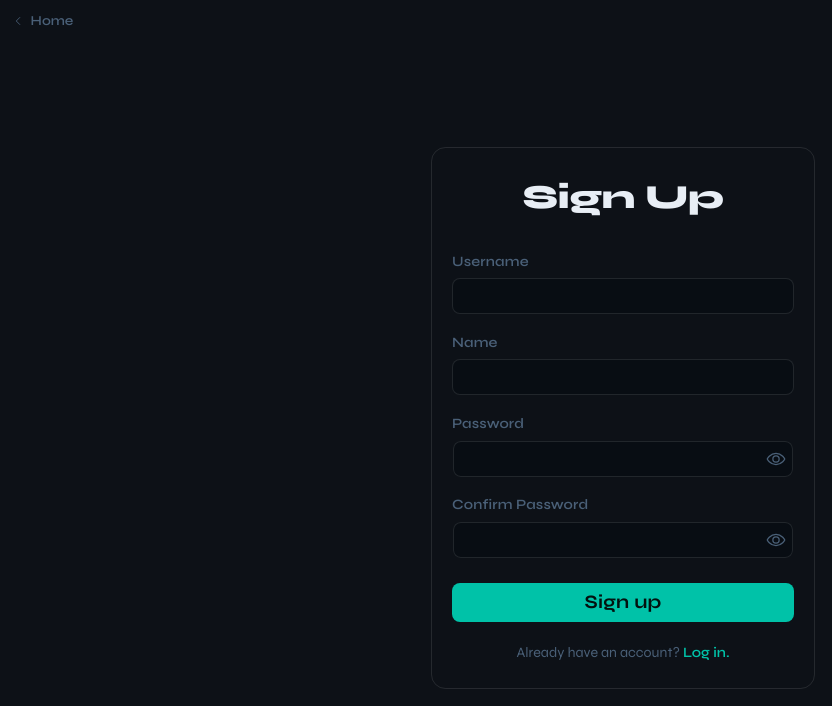
Scenario: Test suite for the signup form › Can signup
Expected: the form is shown, [431,147,815,689]
Type "test" into the field labelled "Username". click: (623, 296)
box: [452,278,794,314]
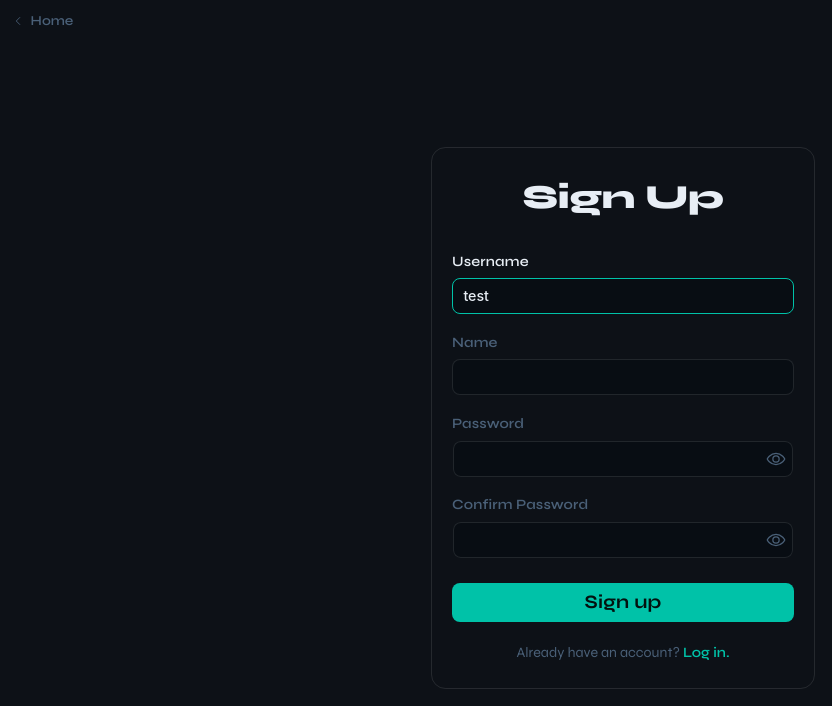
Type "Test" into the field labelled "Name". click: (623, 377)
box: [452,359,794,395]
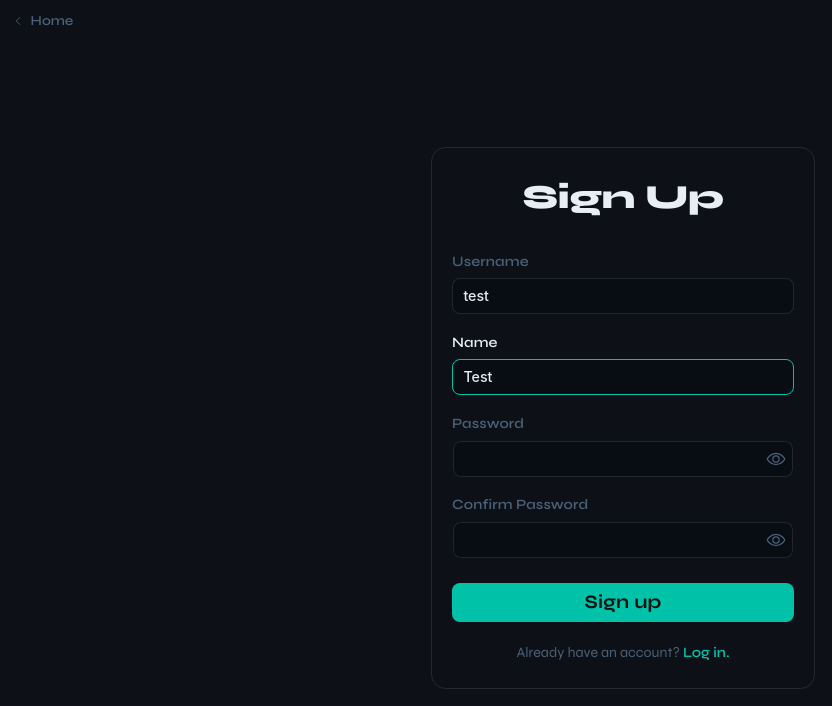
Type "qw12qw34" into the password field labelled "Password". click: (623, 459)
box: [453,441,793,477]
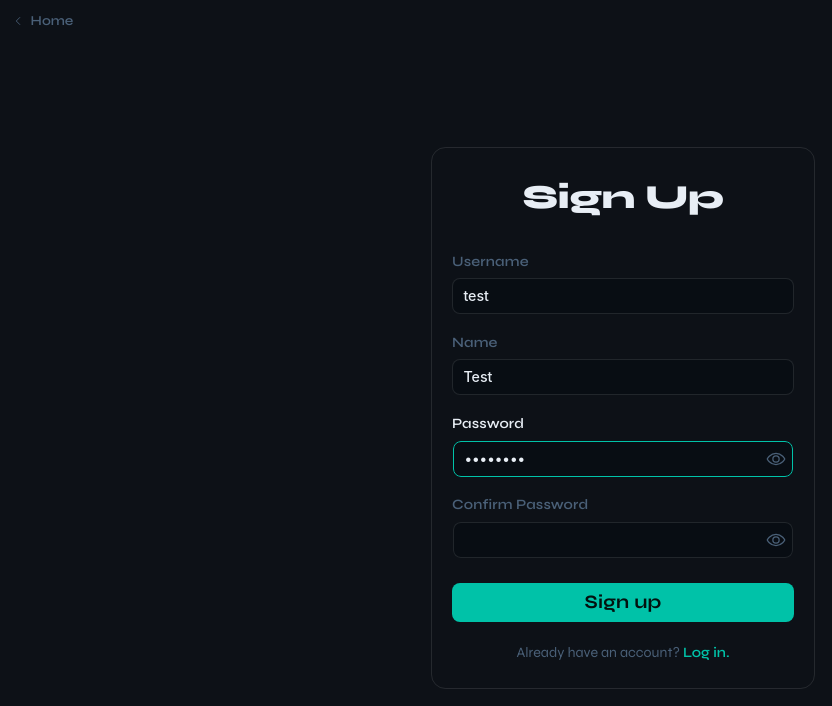
Type "qw12qw34" into the password field labelled "Confirm Password". click: (623, 540)
box: [453,522,793,558]
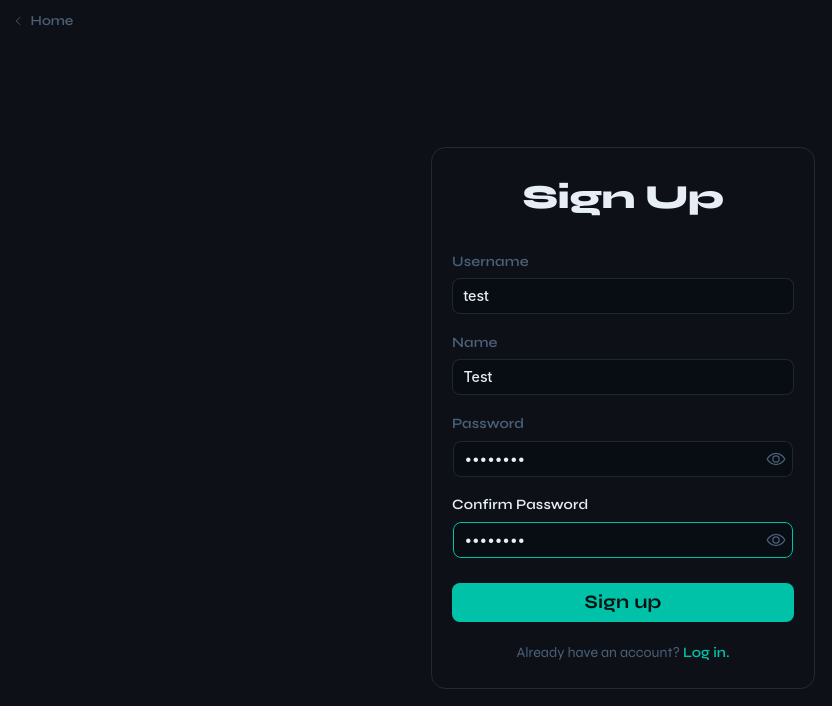
Click the button "Sign up". click: (623, 603)
box: [452,583,794,622]
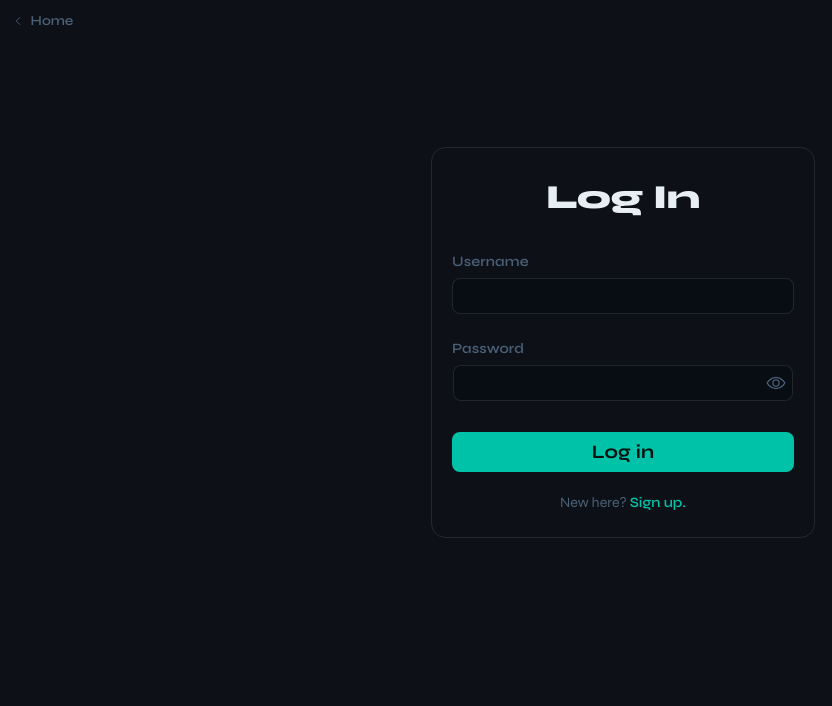
Now the heading "Log In" is shown, box [546,177,700,217]
